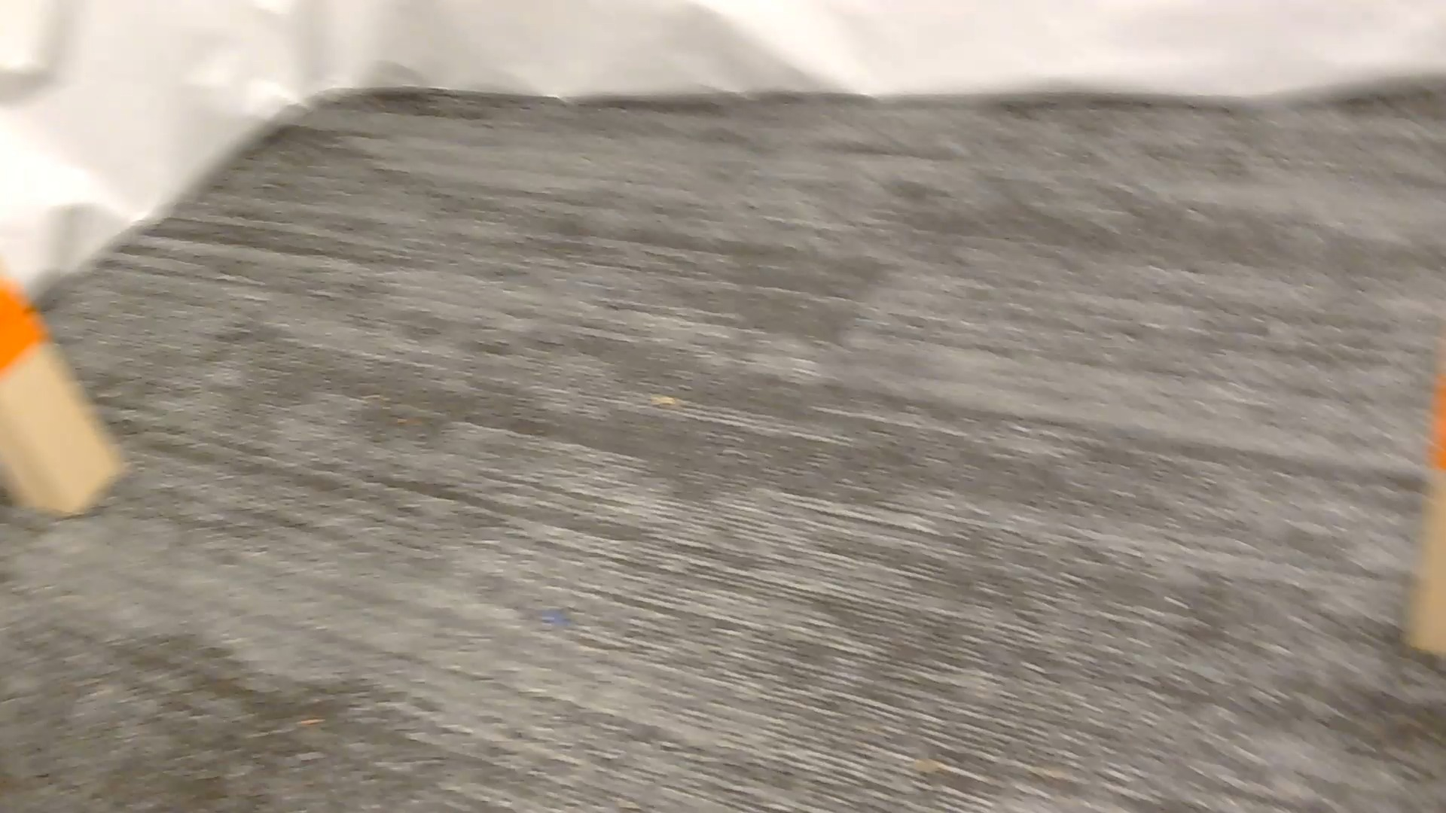Wooden Block: (0, 277, 124, 514), (1406, 343, 1445, 655)
